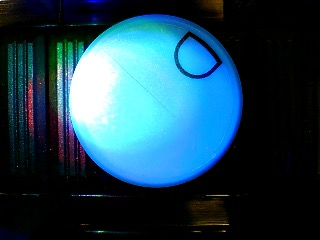MIPO1: (68, 13, 243, 187)
